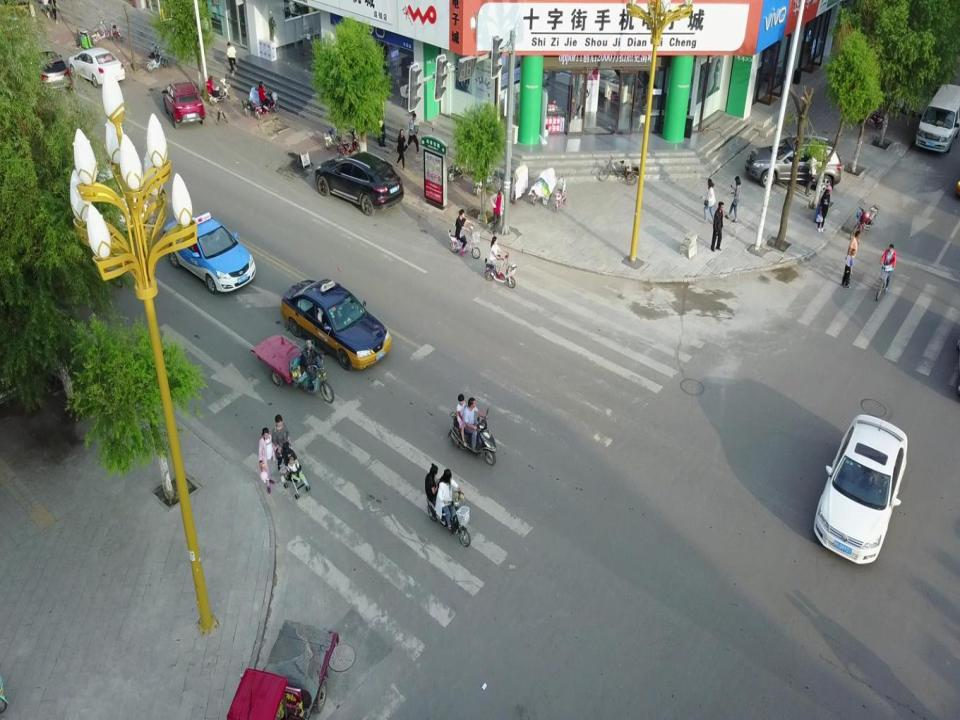car: (812, 412, 909, 567), (280, 276, 392, 374), (162, 210, 256, 294), (314, 150, 405, 216), (744, 134, 843, 193), (20, 41, 73, 94), (68, 44, 126, 88), (162, 79, 206, 127)
van: (913, 83, 960, 156)
